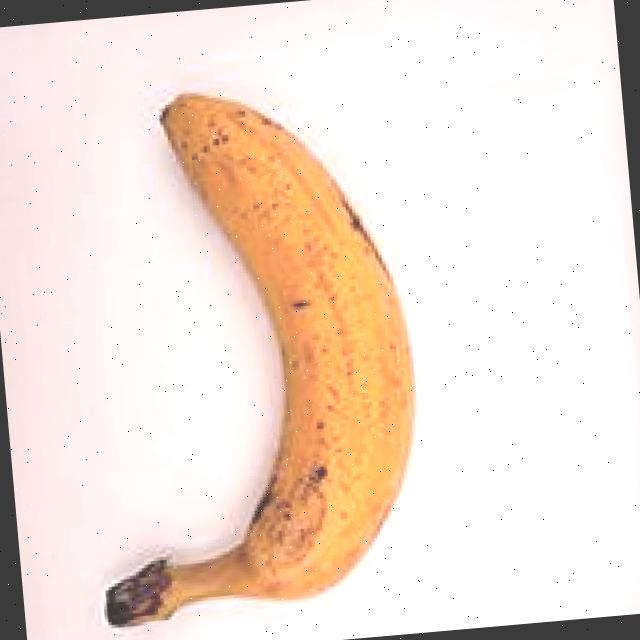Overripe: (36, 40, 470, 640)
